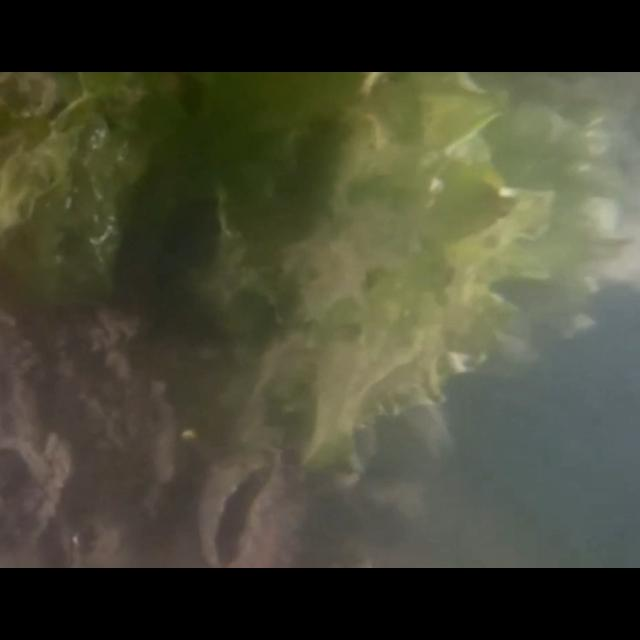Oyster-Open: (196, 444, 284, 568)
